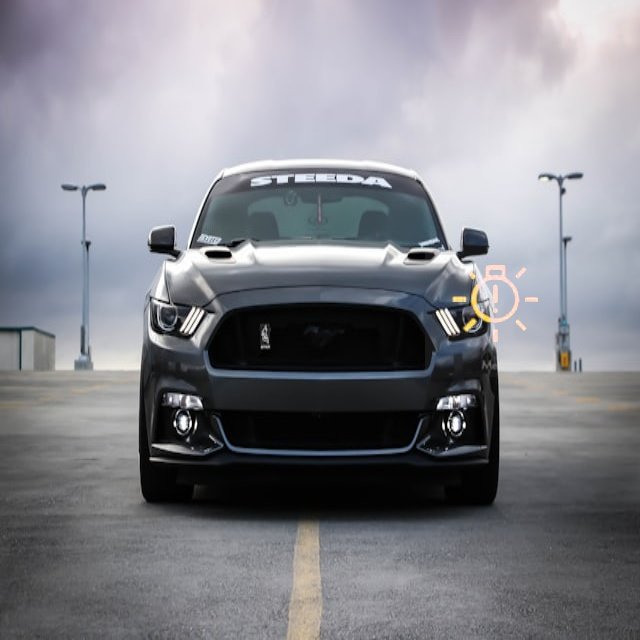symbol: (425, 233, 569, 377)
